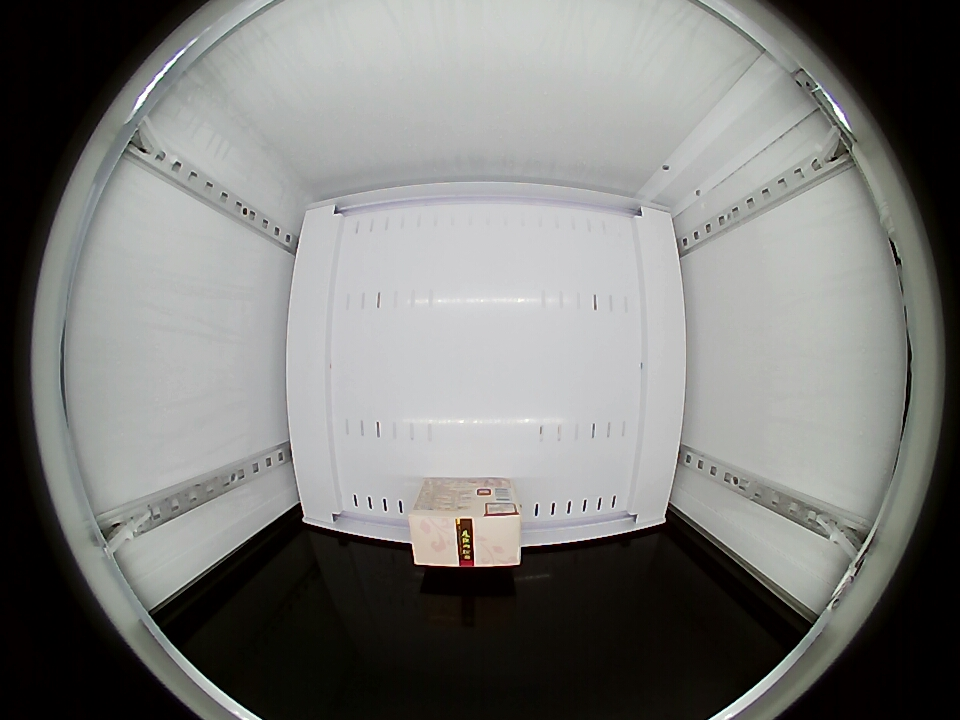rousongbing: (409, 482, 522, 569)
